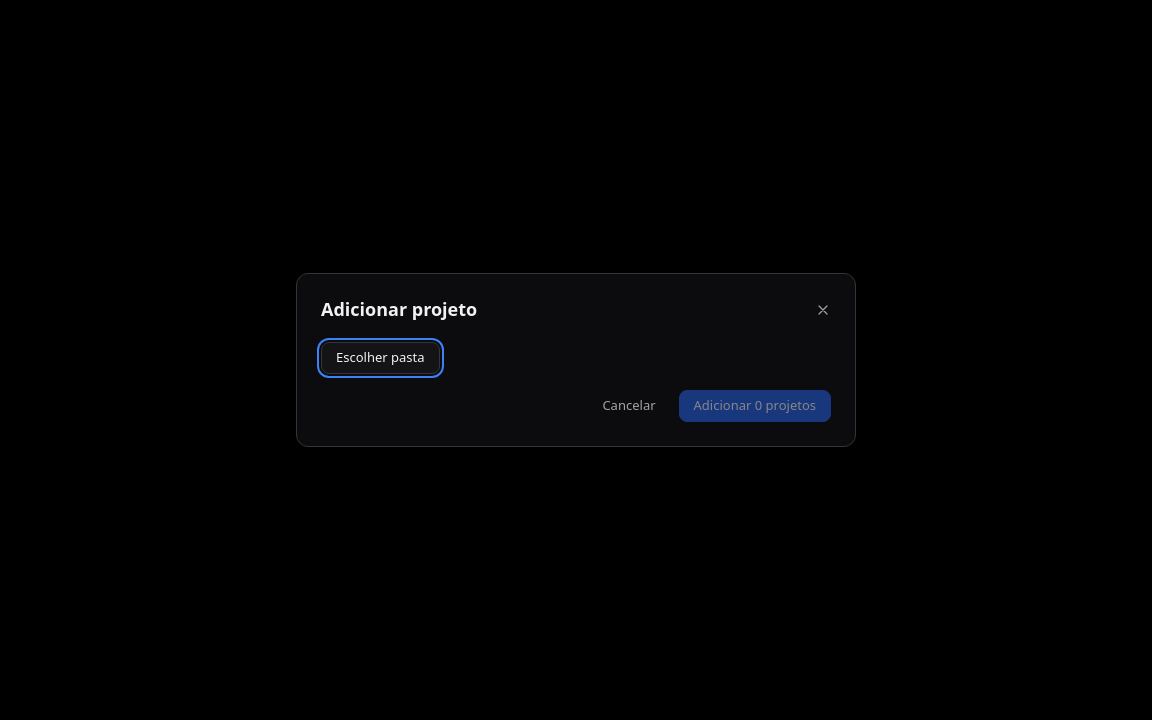
Scenario: AddProjectDialog › falha ao enfileirar mantém o diálogo aberto com o aviso
Click the button "Escolher pasta" at [380, 358], box [321,342,440,374]
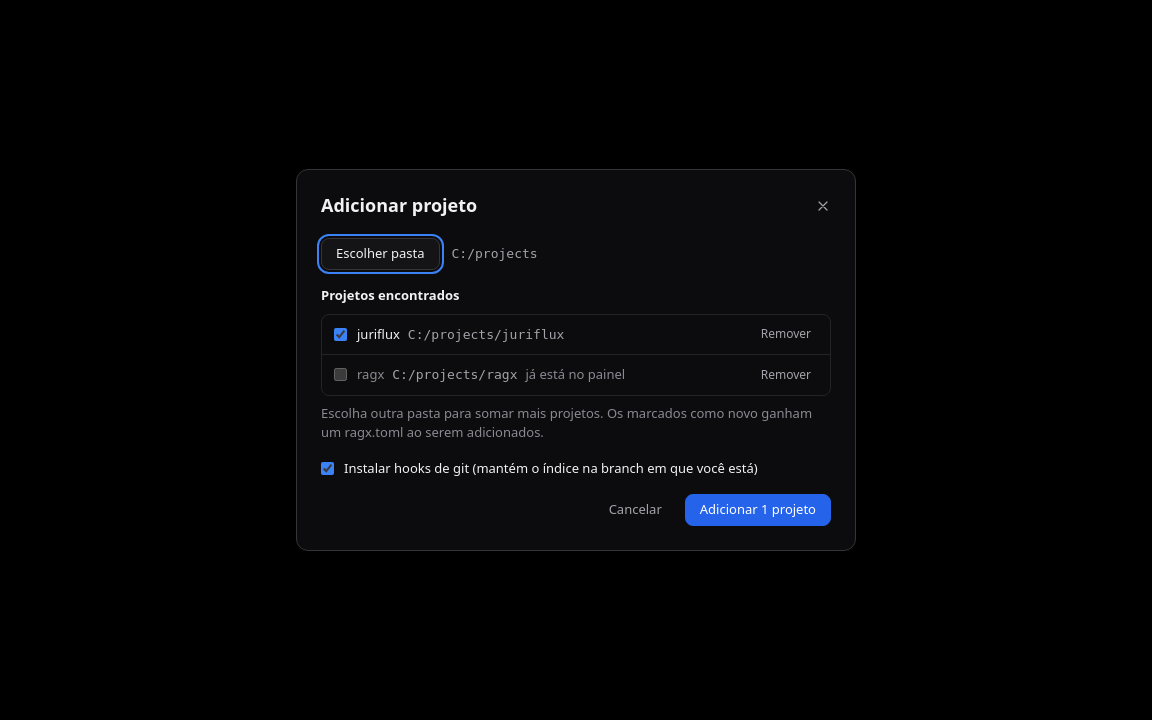
Now the text "C:/projects" is shown, box [452,244,538,264]
Click the button "Adicionar 1 projeto" at [758, 510], box [685,494,831,526]
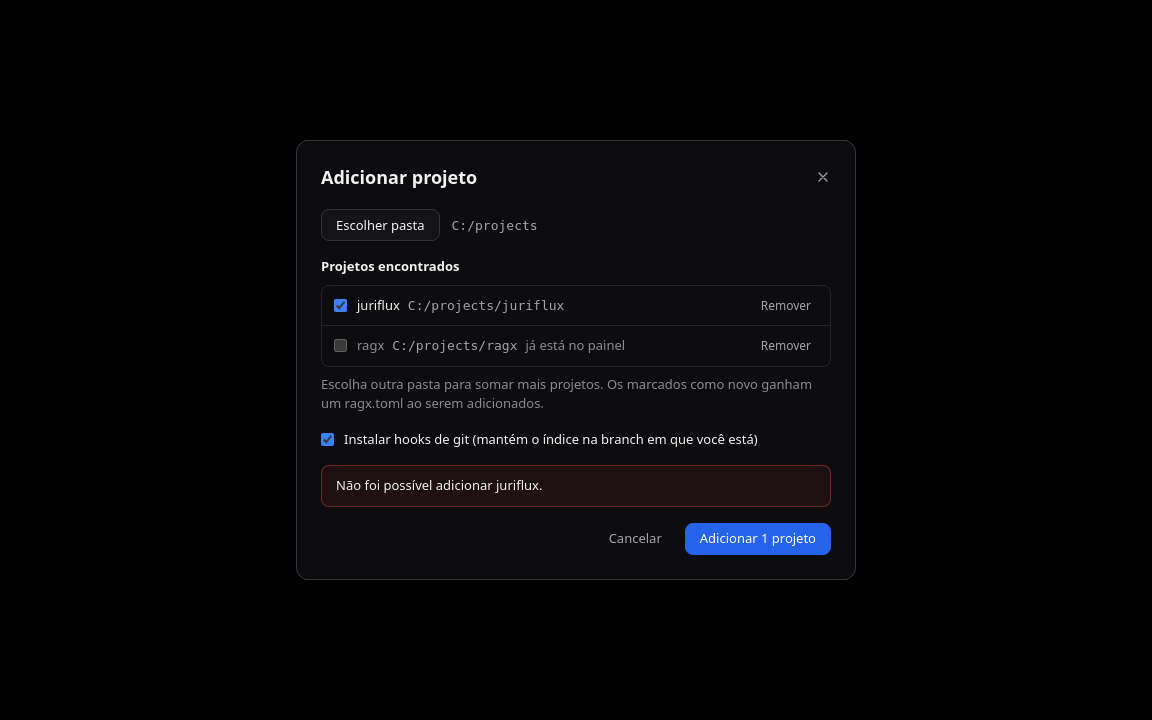
Now the text "Não foi possível adicionar juriflux." is shown, box [321,465,831,507]
